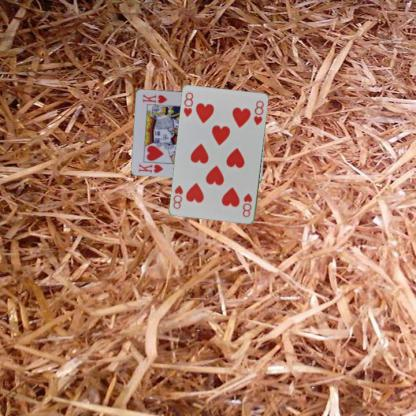8h: (181, 89, 195, 118), (240, 191, 253, 218)
Kh: (136, 161, 165, 174)
